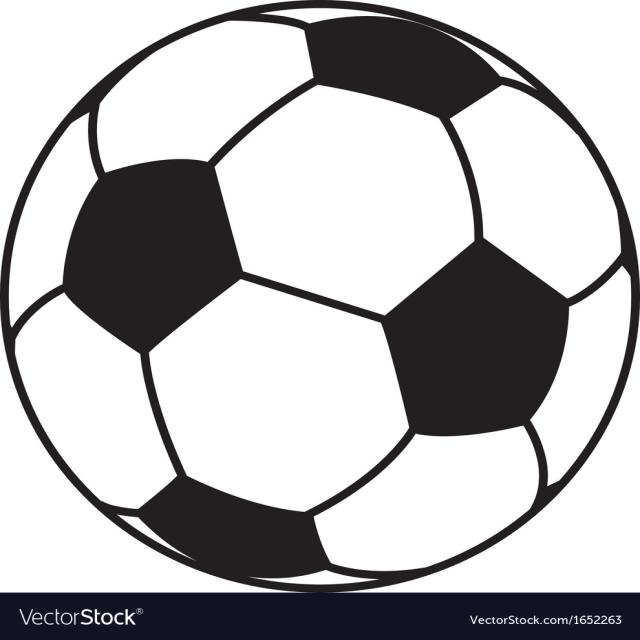soccer ball: (0, 2, 634, 587)
